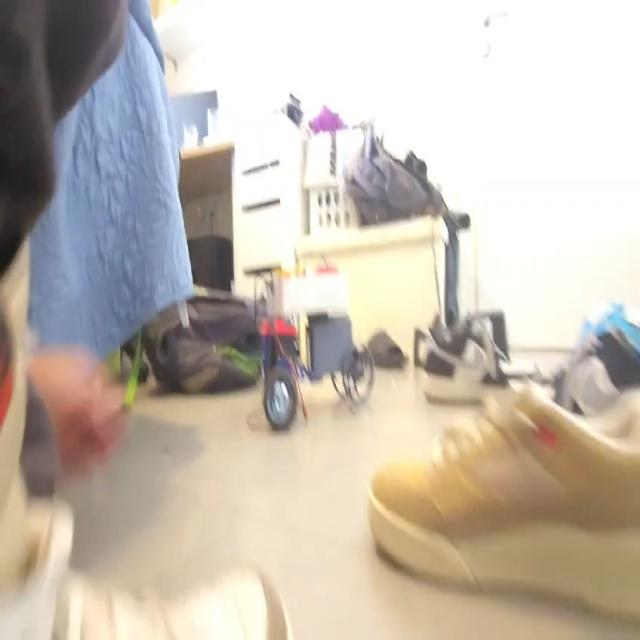Robot: (256, 262, 375, 430)
